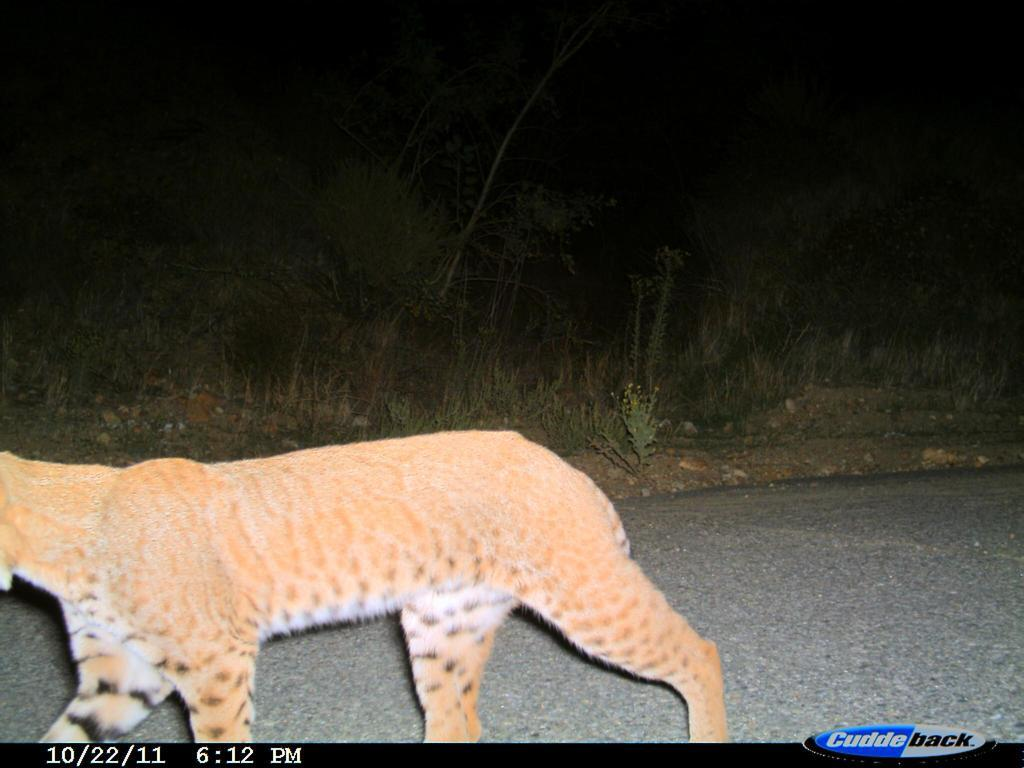bobcat: (2, 427, 730, 743)
